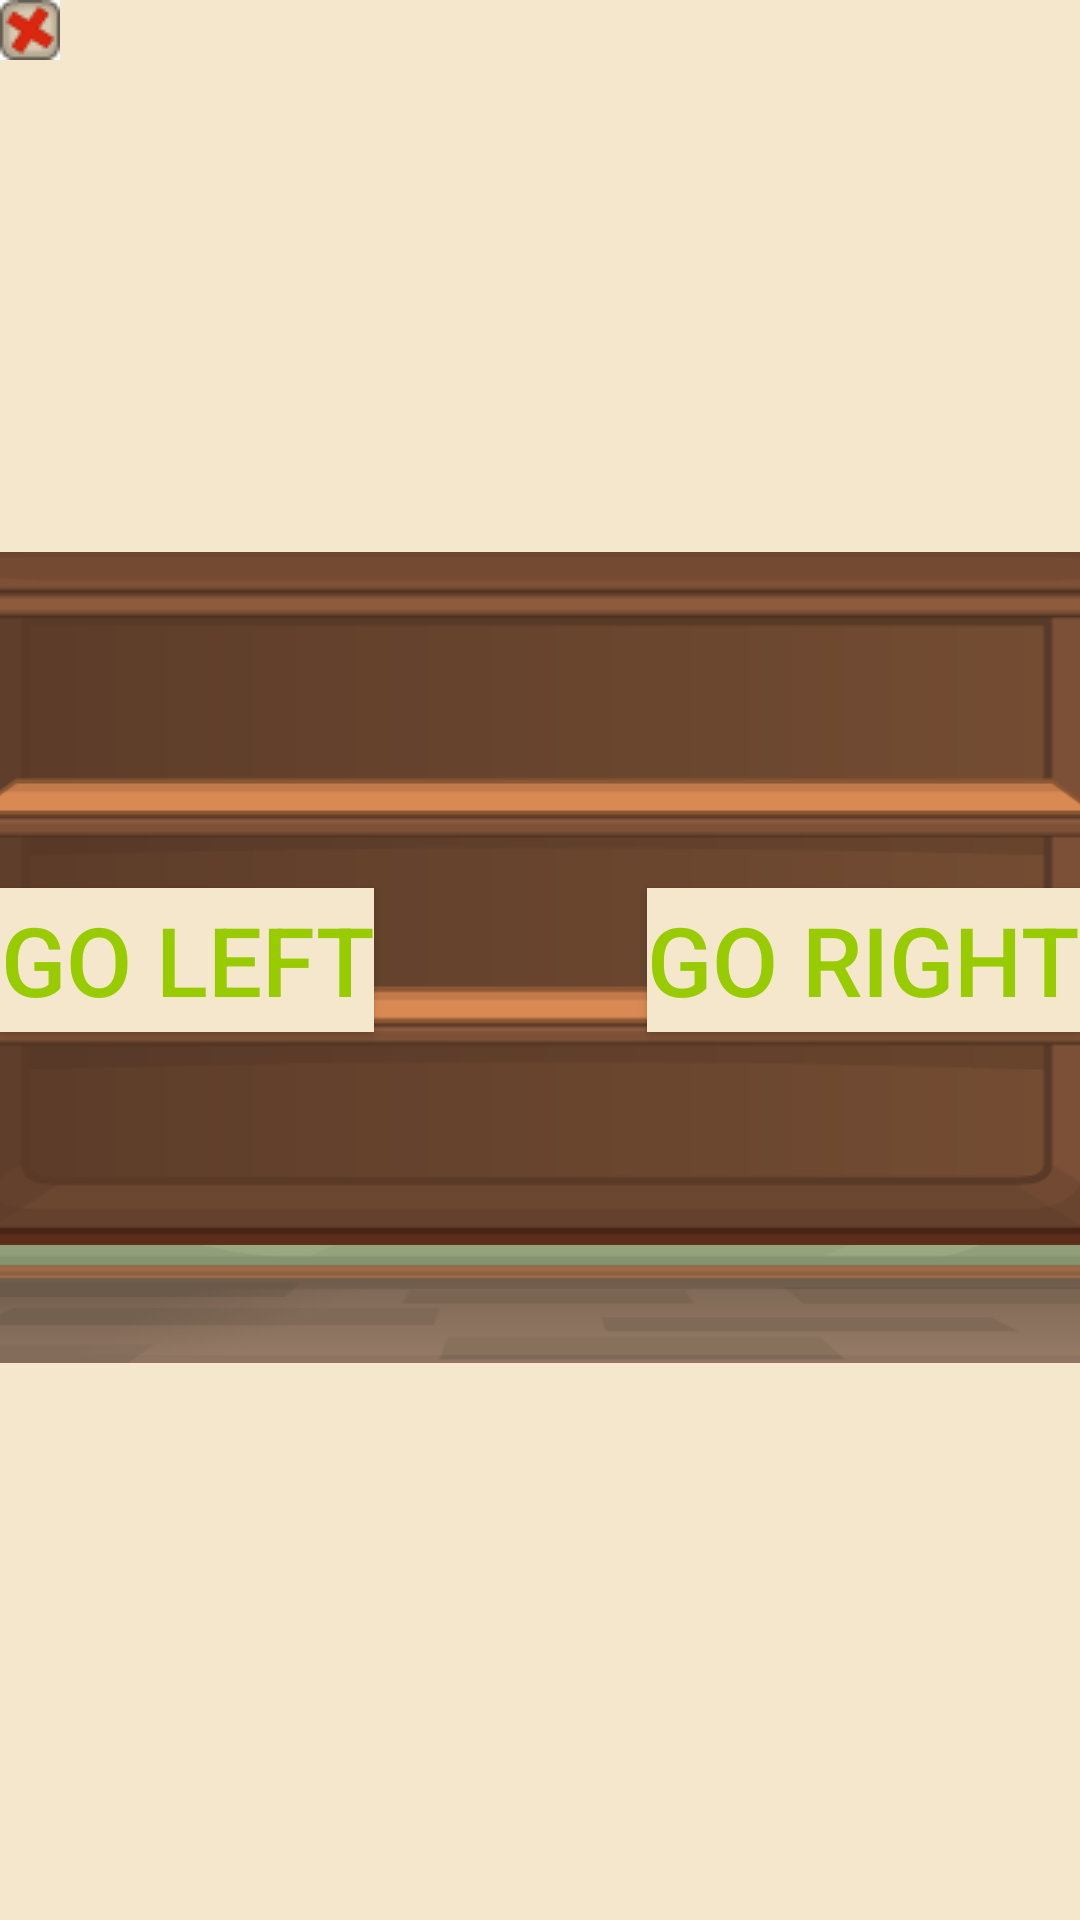

Named icons in this screenshot (1080 x 1920) and their centers, [x,y]:
exit: [30,30]
